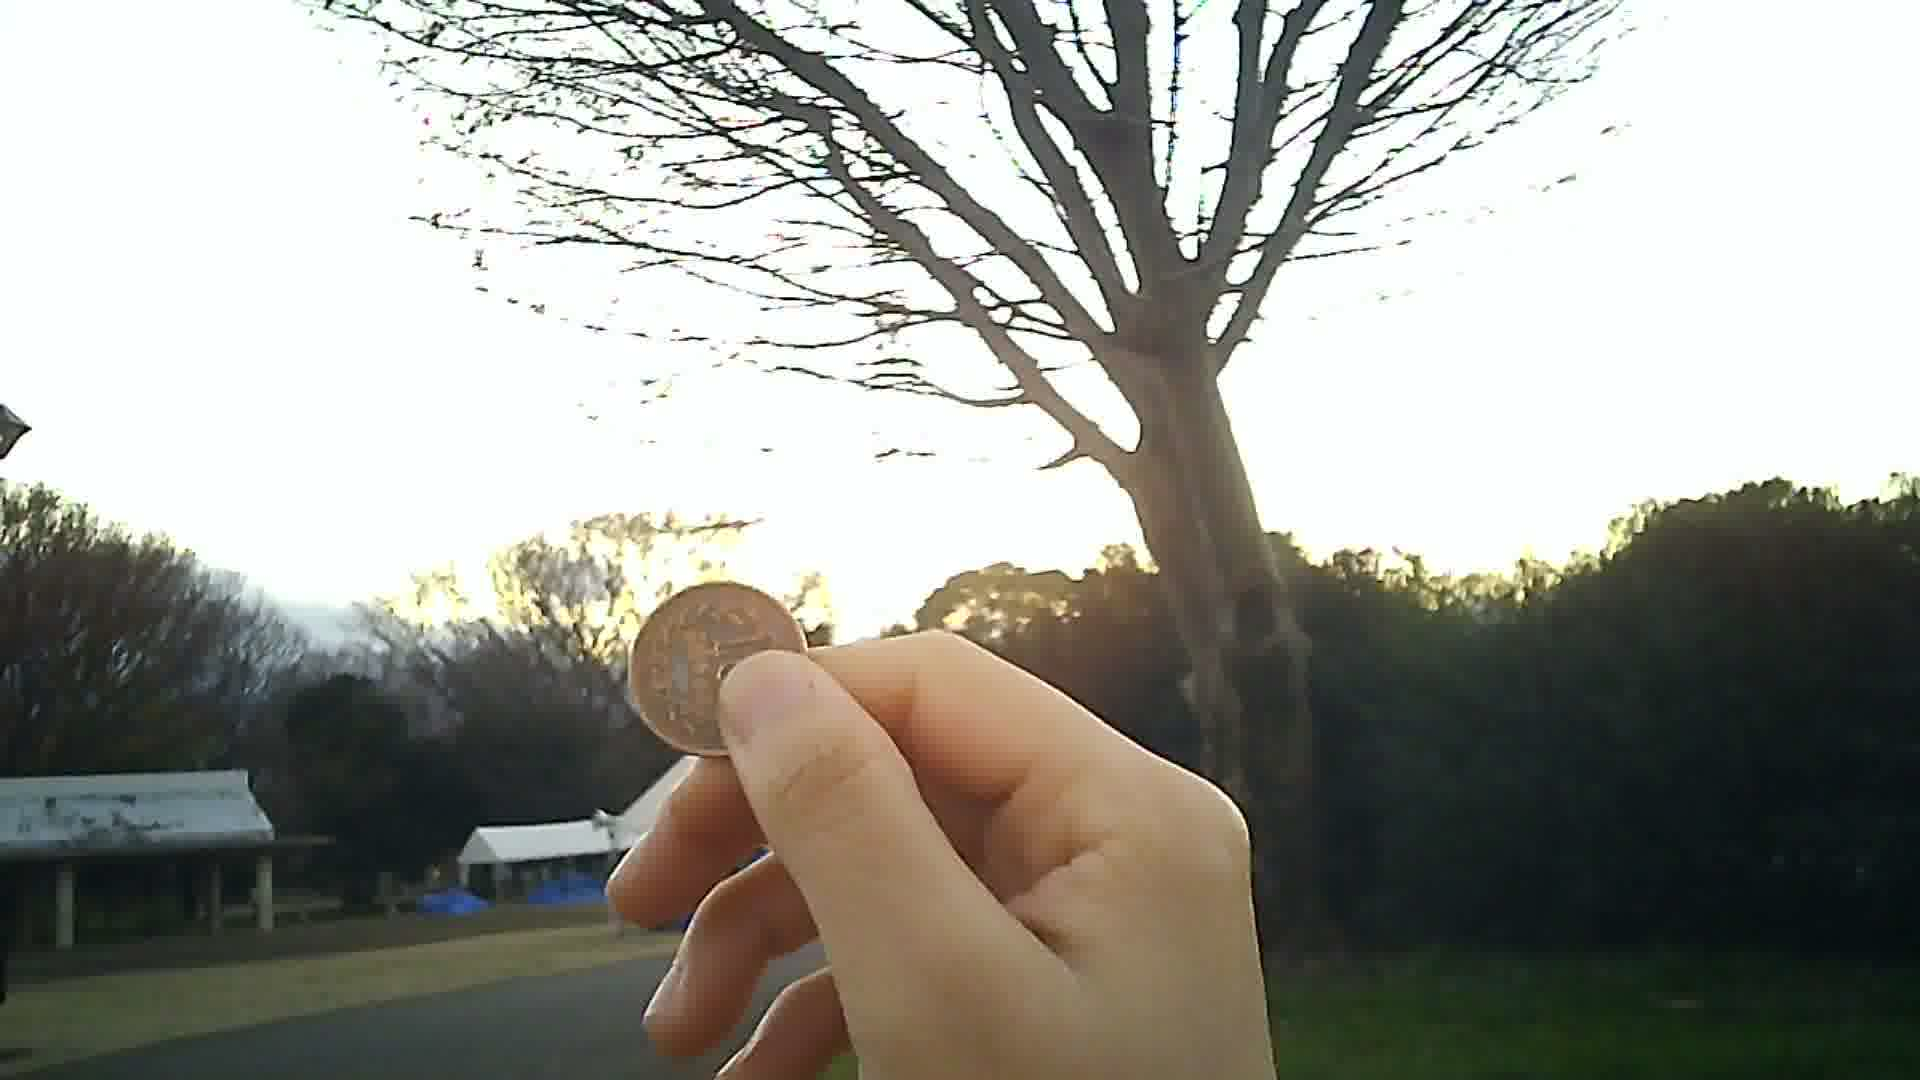10 Yen: (626, 583, 811, 757)
